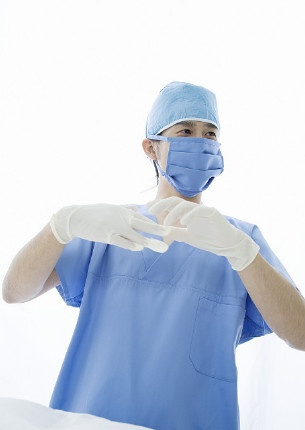Mask: (163, 119, 227, 182)
